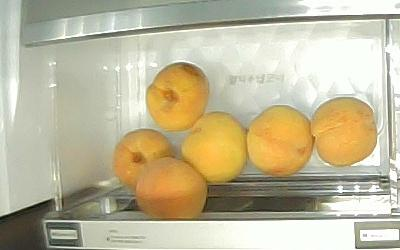peach: (246, 105, 315, 176), (181, 111, 246, 184), (310, 96, 377, 166), (134, 156, 207, 220), (145, 61, 209, 131), (113, 129, 175, 190)
